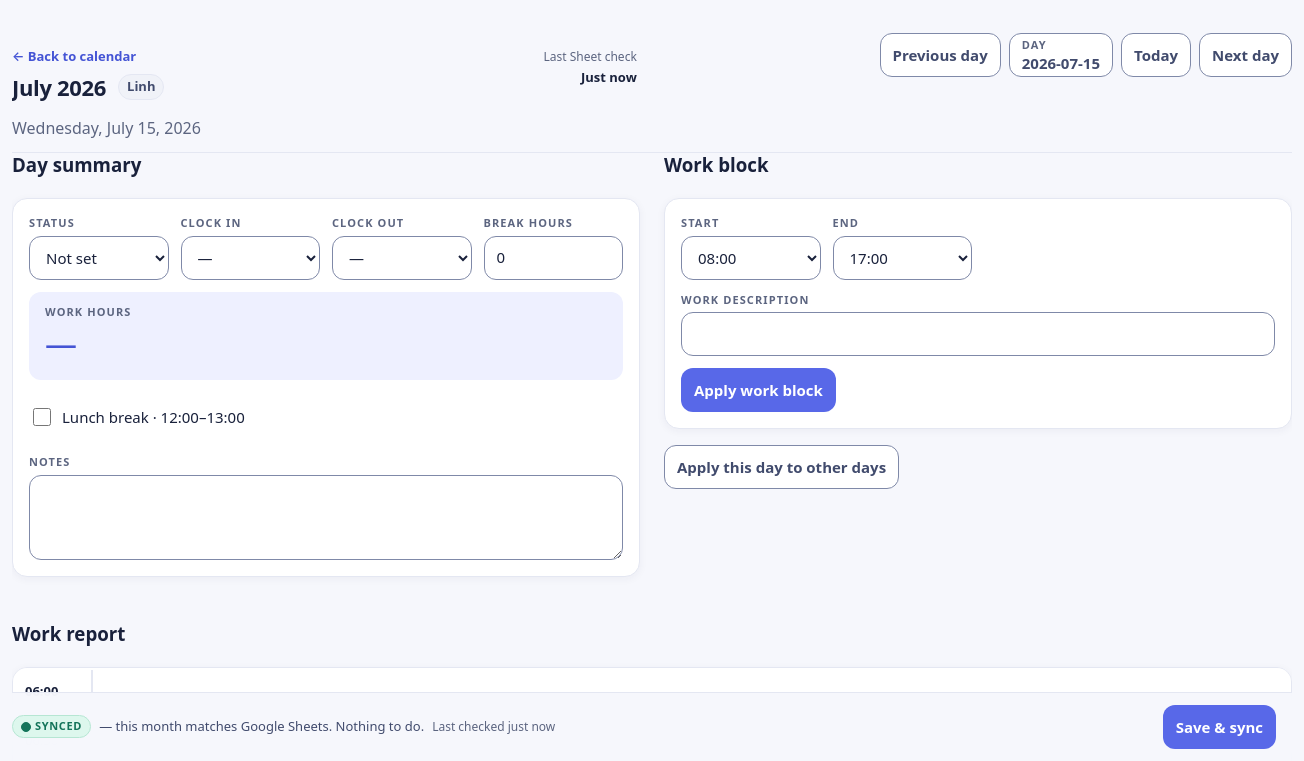
Test: AttendanceEditor › refuses to save when clock out is not later than clock in
Check: the button "Save & sync" is shown, box [1163,705,1276,749]
Select "10:00" in the dropdown labelled "Clock in": (250, 258) [180,236,320,280]
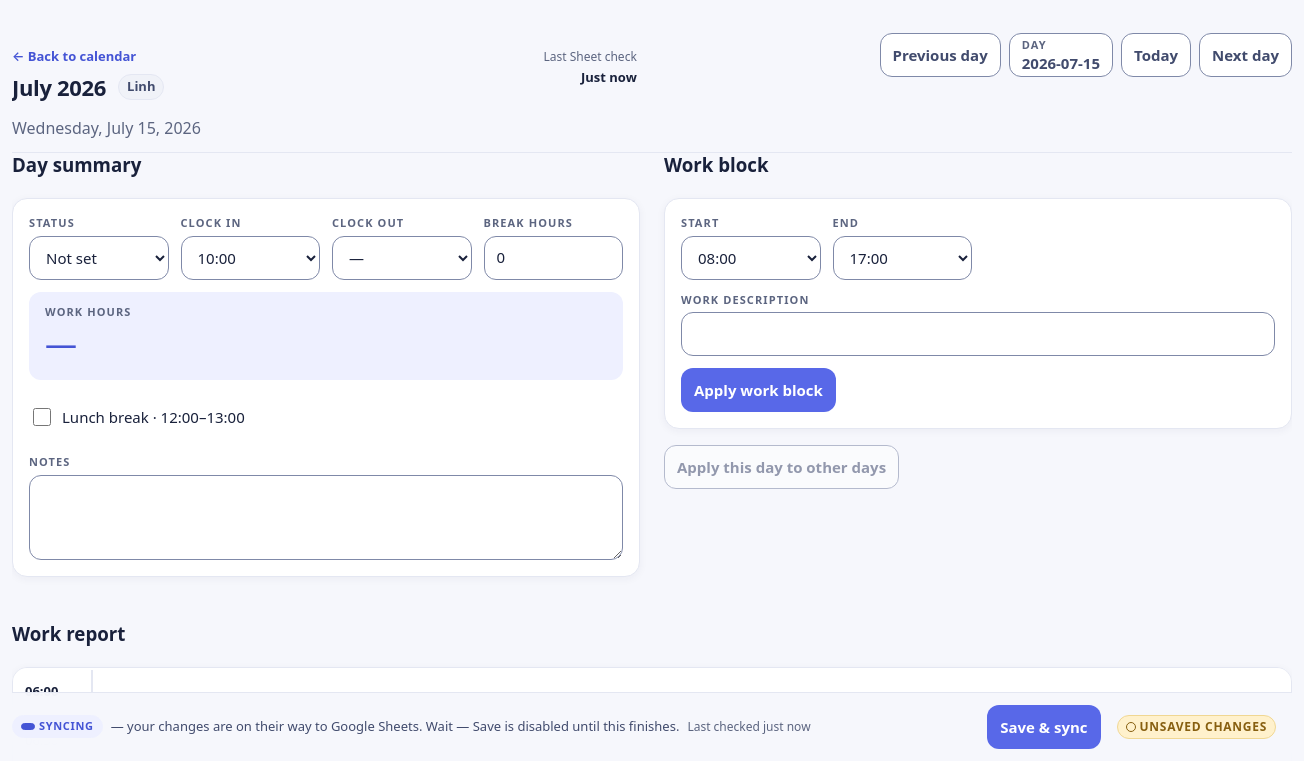
Select "09:00" in the dropdown labelled "Clock out": (402, 258) [332,236,472,280]
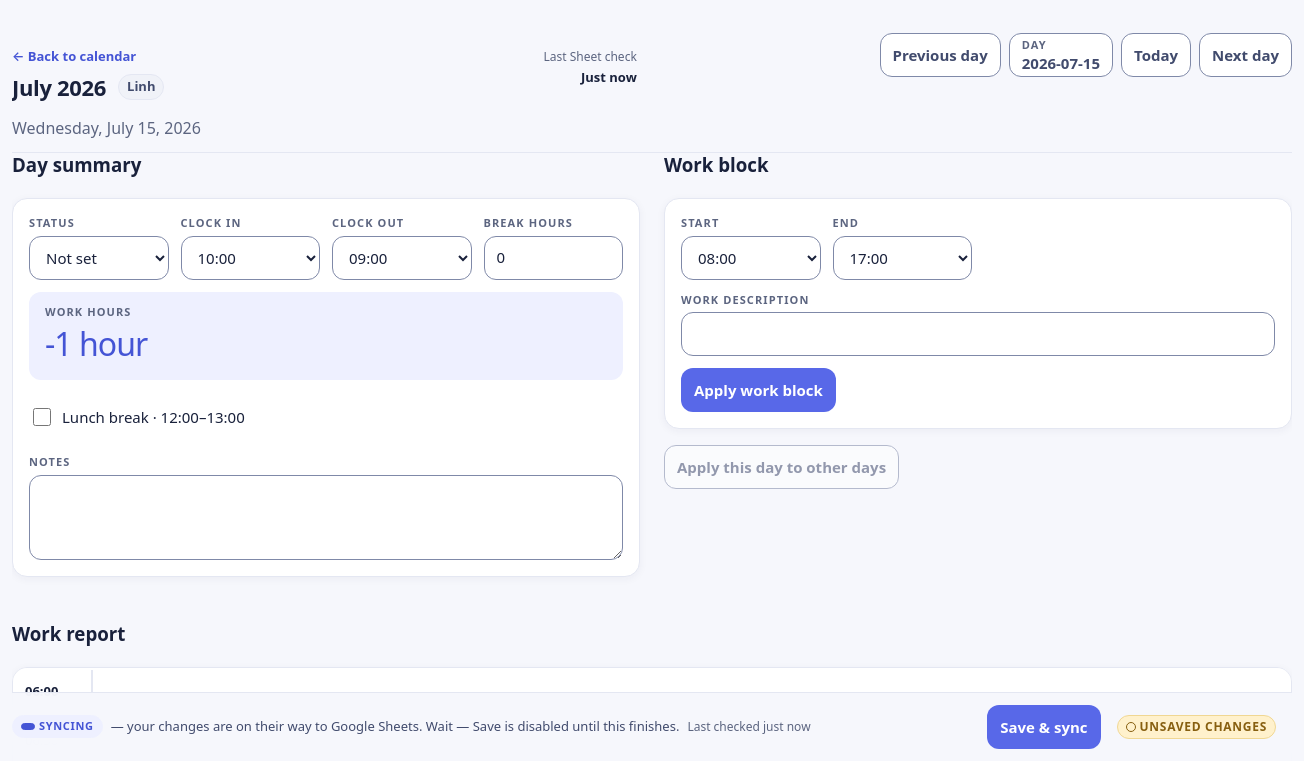
Click the button "Save & sync": click(1044, 727) [987,705,1100,749]
(page scrolled)
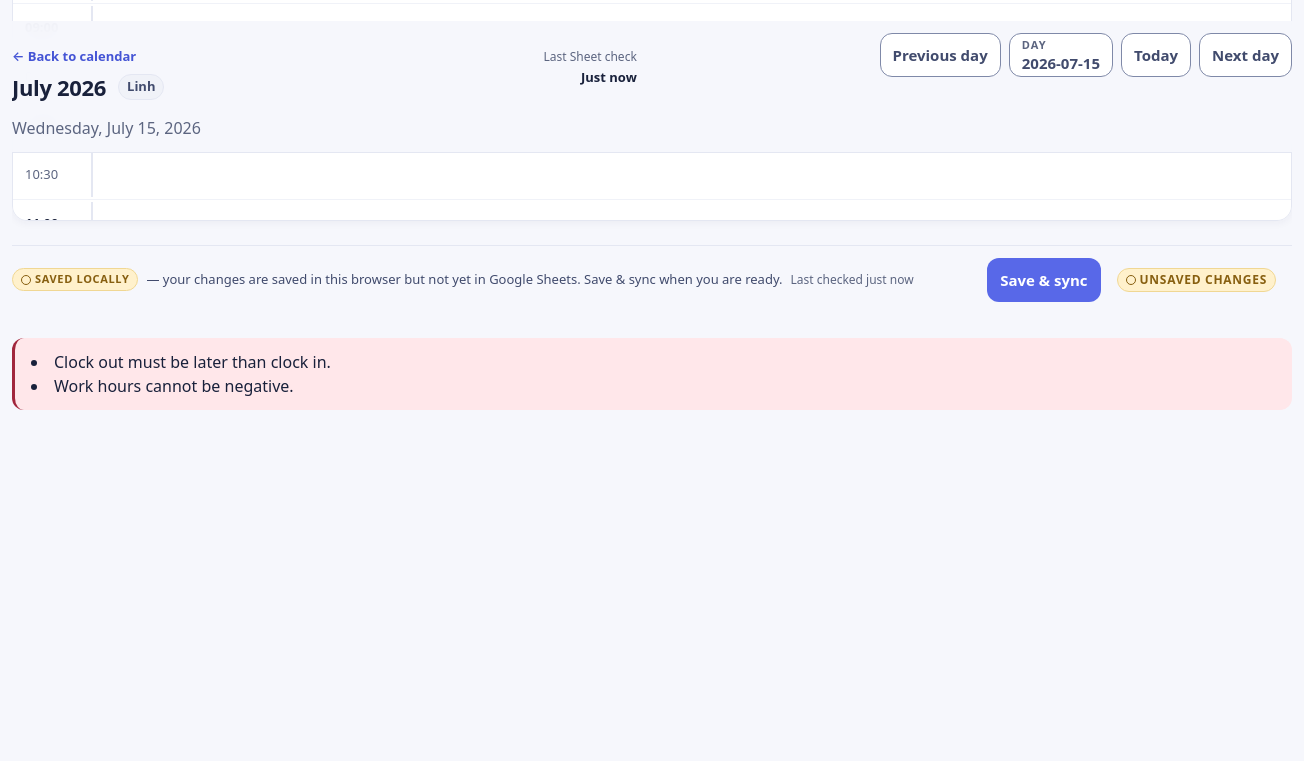
Check: the list item "Clock out must be later than clock in." is shown, box [54,350,331,372]
